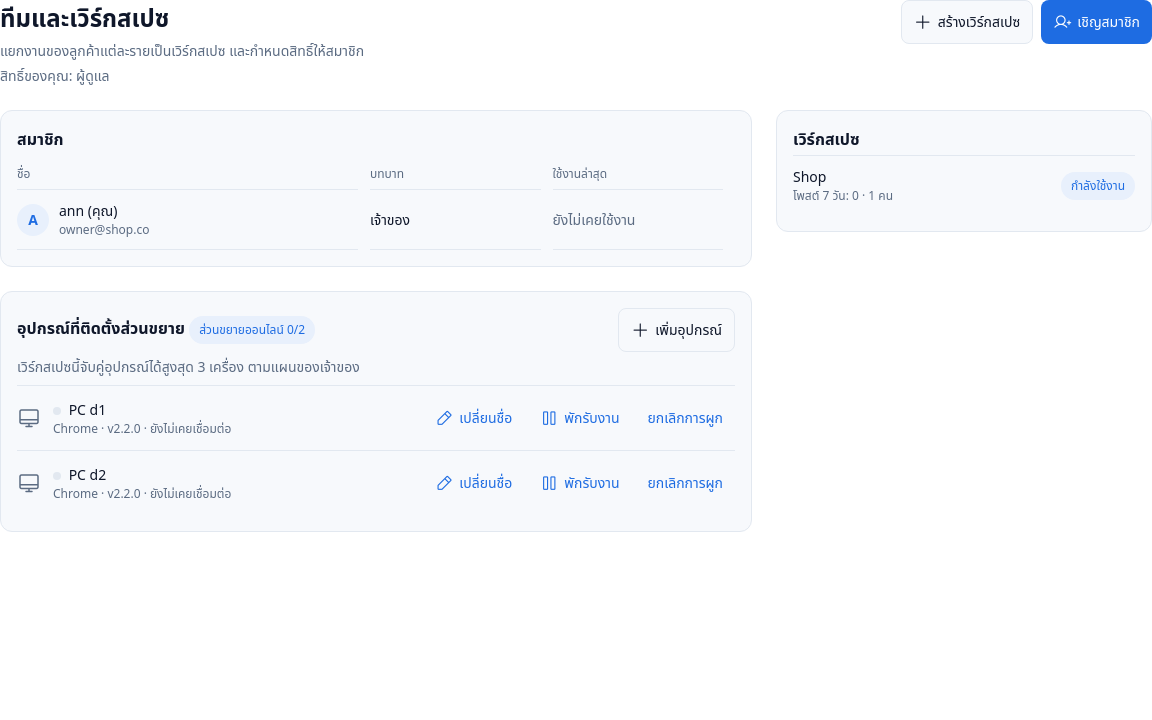
Test case: TeamPageComponent › renaming to a name another extension has › closes and says the new name when the server accepts it
Click the button "เปลี่ยนชื่อ" in the row of "PC d1" at (474,418), box [423, 396, 524, 440]
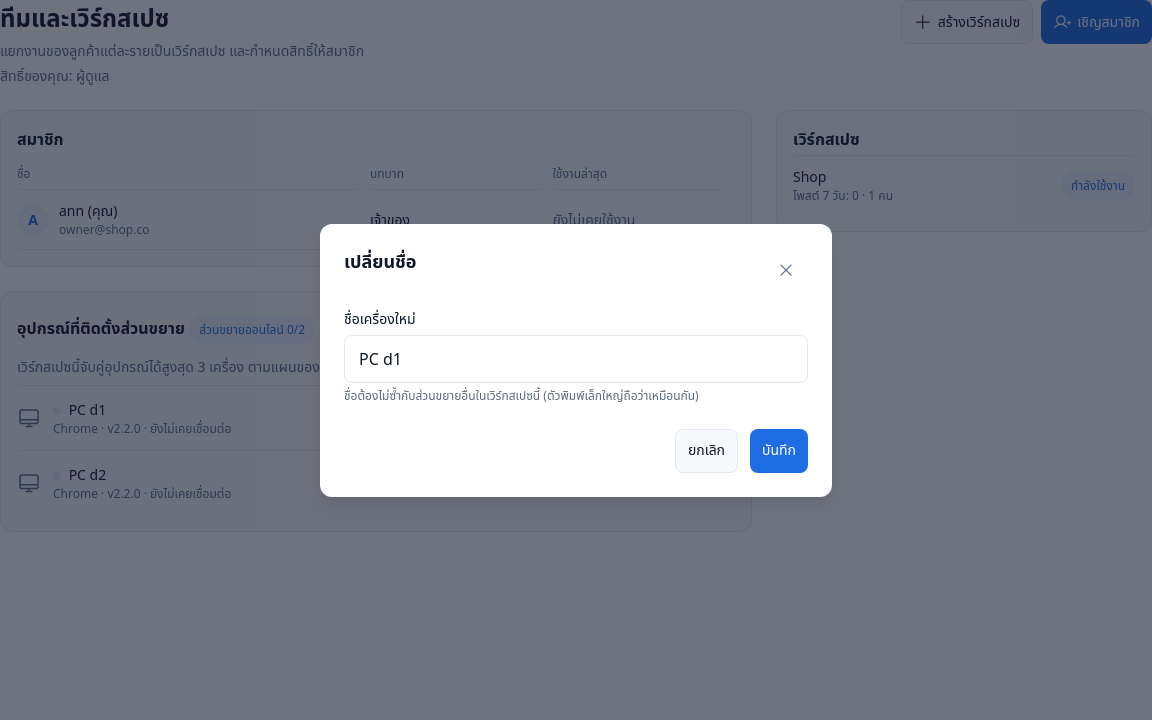
Replace the text in the field labelled "ชื่อเครื่องใหม่" with "Shop laptop" at (576,358), box [344, 334, 808, 382]
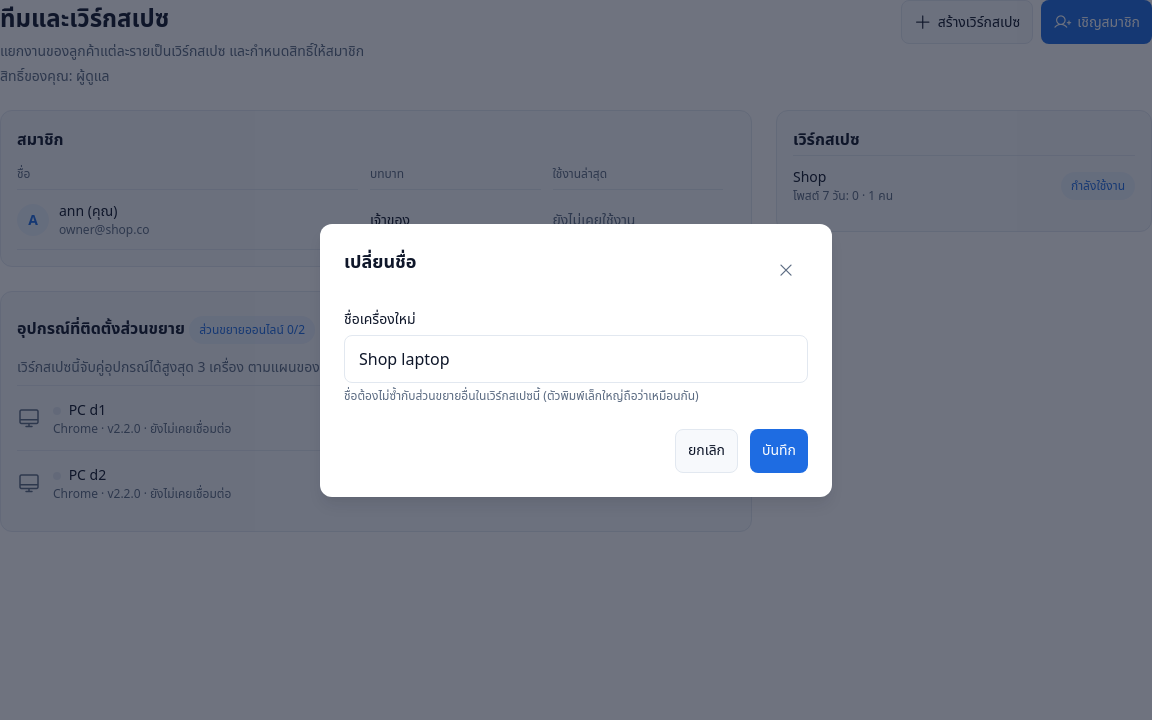
Click the button with class "su-btn-primary" showing "บันทึก" at (779,450), box [750, 428, 808, 472]
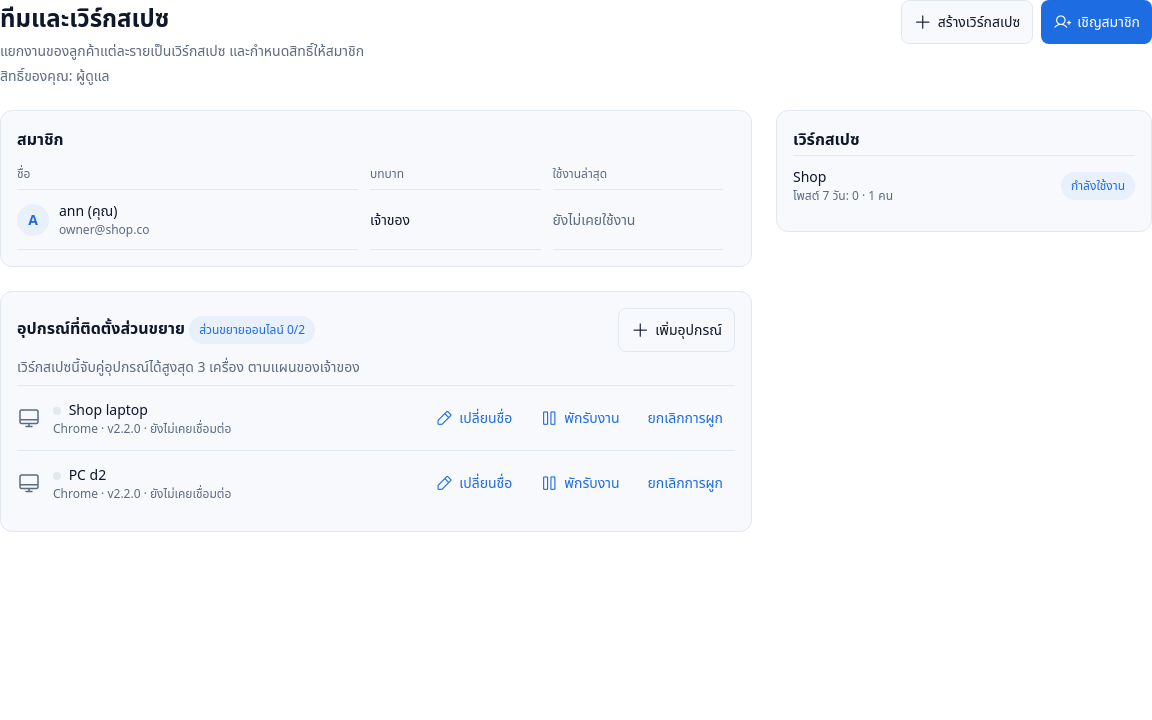
Now the field is gone
Now the element with class "dev" shows "Shop laptop", box [65, 400, 148, 418]
